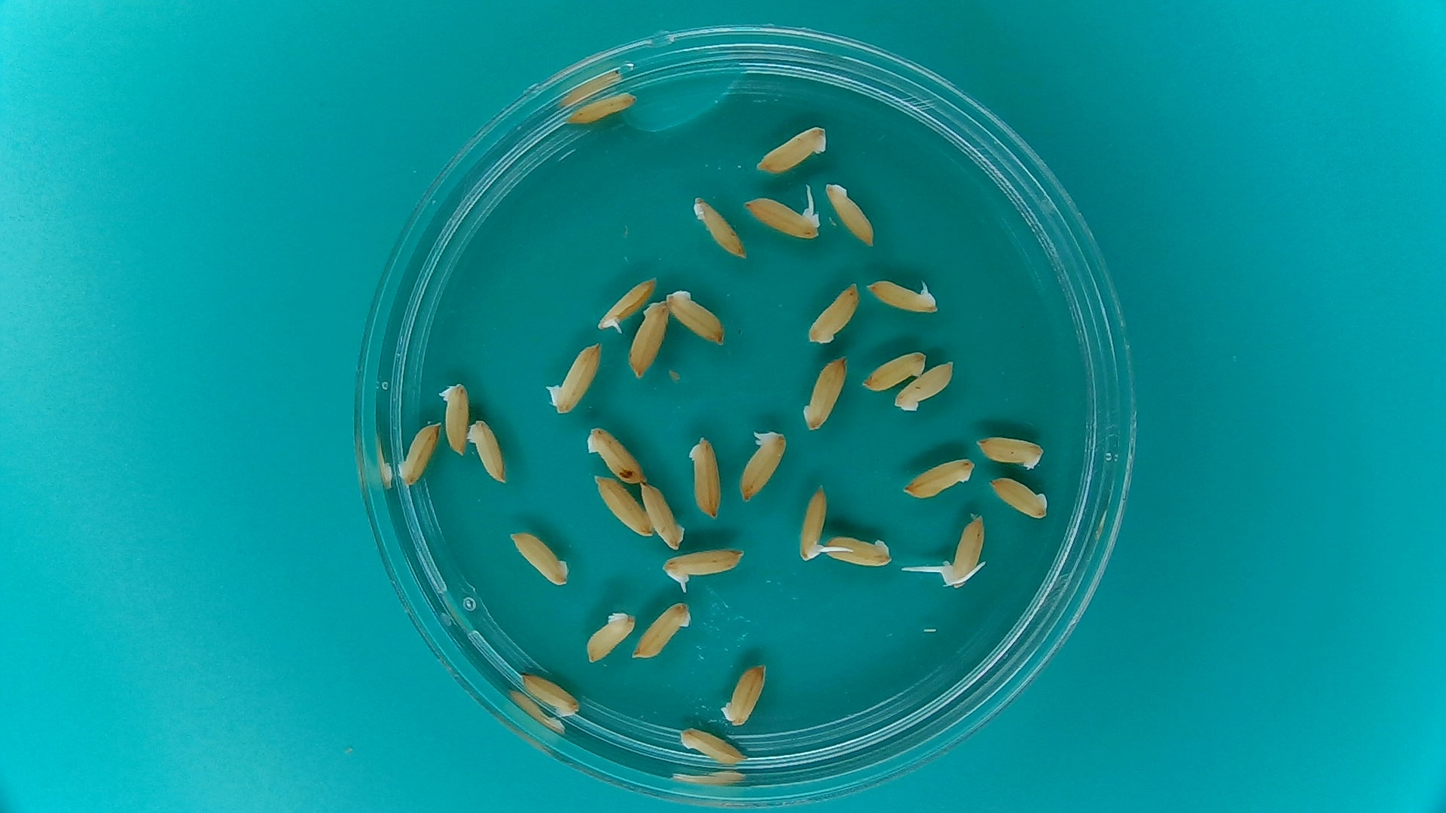no: (542, 337, 606, 417), (590, 471, 656, 540), (631, 600, 698, 666), (752, 120, 831, 175), (505, 525, 571, 590), (664, 285, 731, 349), (581, 422, 650, 483), (823, 178, 880, 251), (690, 193, 749, 263), (804, 278, 864, 346), (801, 352, 851, 433), (627, 299, 673, 386), (685, 428, 725, 524), (892, 356, 959, 413), (718, 659, 772, 729), (898, 454, 977, 501), (640, 478, 688, 552), (395, 416, 444, 488), (465, 413, 511, 489), (578, 606, 635, 665), (859, 346, 928, 394), (519, 670, 581, 720), (676, 725, 749, 767), (986, 473, 1051, 520), (973, 432, 1048, 471), (436, 377, 470, 461), (565, 88, 640, 126), (822, 534, 895, 570)
yes: (914, 511, 989, 603), (658, 544, 751, 600), (735, 421, 792, 506), (739, 188, 825, 240), (593, 269, 660, 335), (862, 275, 943, 317), (794, 479, 830, 563)
